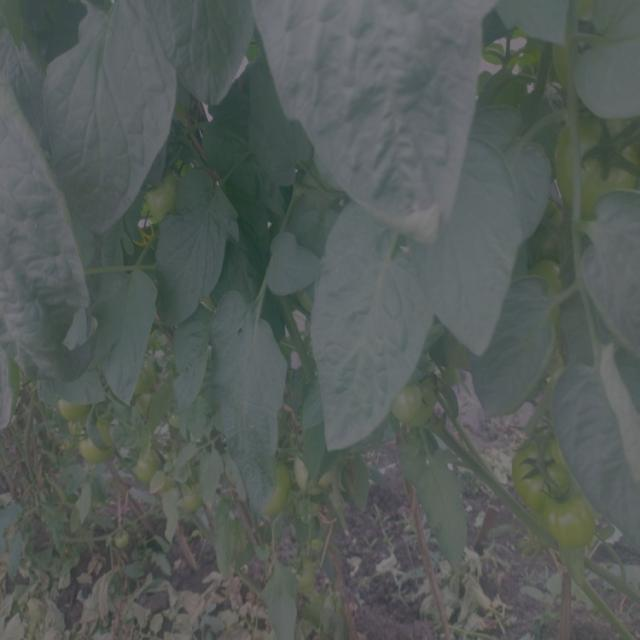tomato: (554, 118, 640, 195), (506, 444, 572, 497), (555, 3, 597, 83), (550, 500, 599, 550), (394, 390, 440, 431), (300, 452, 339, 498), (533, 261, 565, 313), (150, 178, 180, 217), (77, 423, 108, 457), (140, 451, 165, 486), (275, 462, 291, 514), (177, 480, 203, 511), (60, 401, 95, 421), (116, 529, 131, 546)
